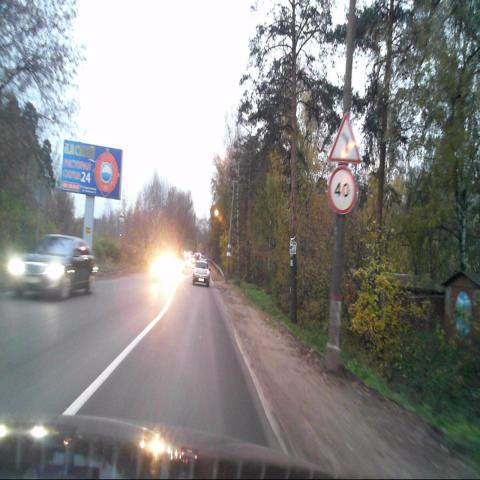1_11_1: (329, 111, 361, 164)
